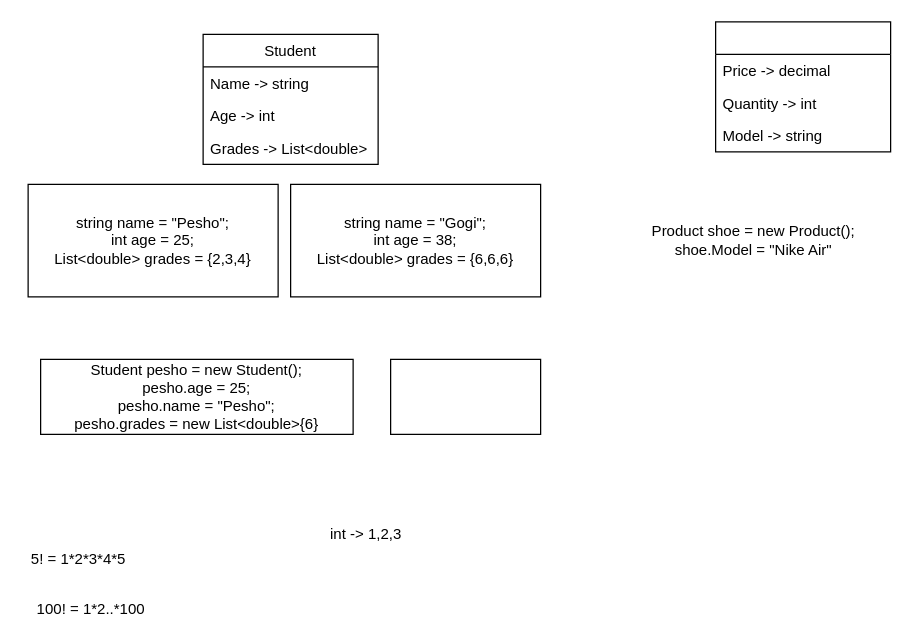
This 913x644 diagram has some shape labels left out. The box of each missing label's shape, as (x1, y1, x2, y2) in pixels:
Product: (714, 21, 891, 152)
string text = "432423" int number = 55; Student student =: (389, 358, 541, 434)
